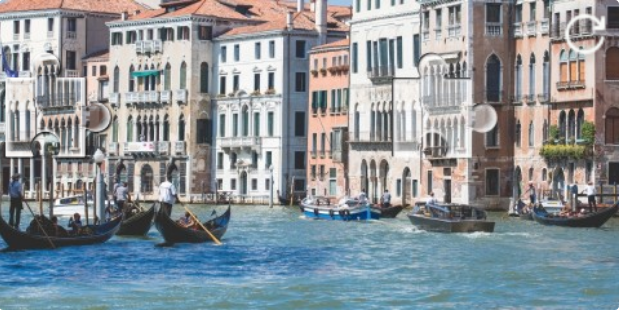target: (392, 53, 497, 154)
